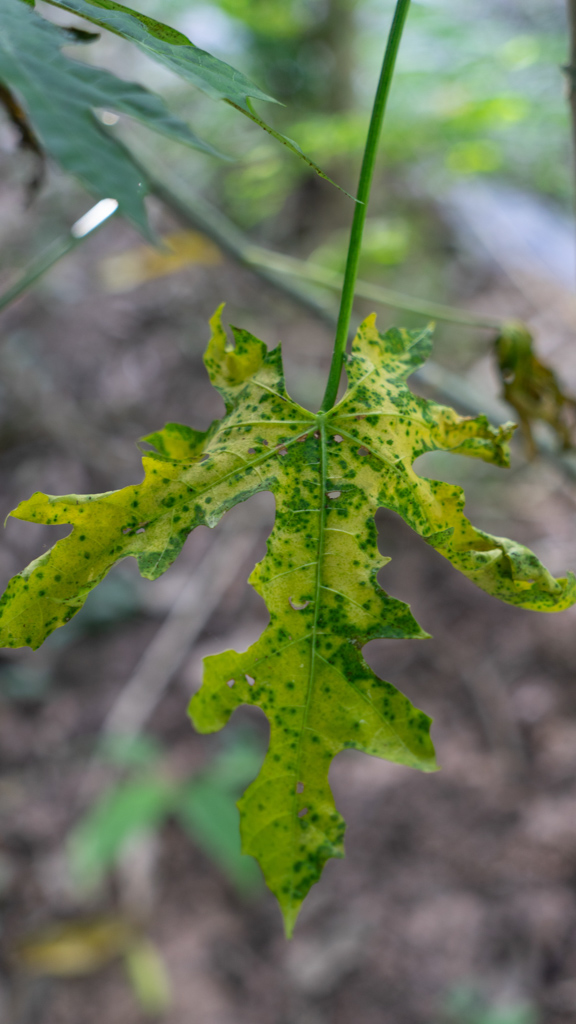Alternaria brassicicola: (9, 317, 571, 944)
